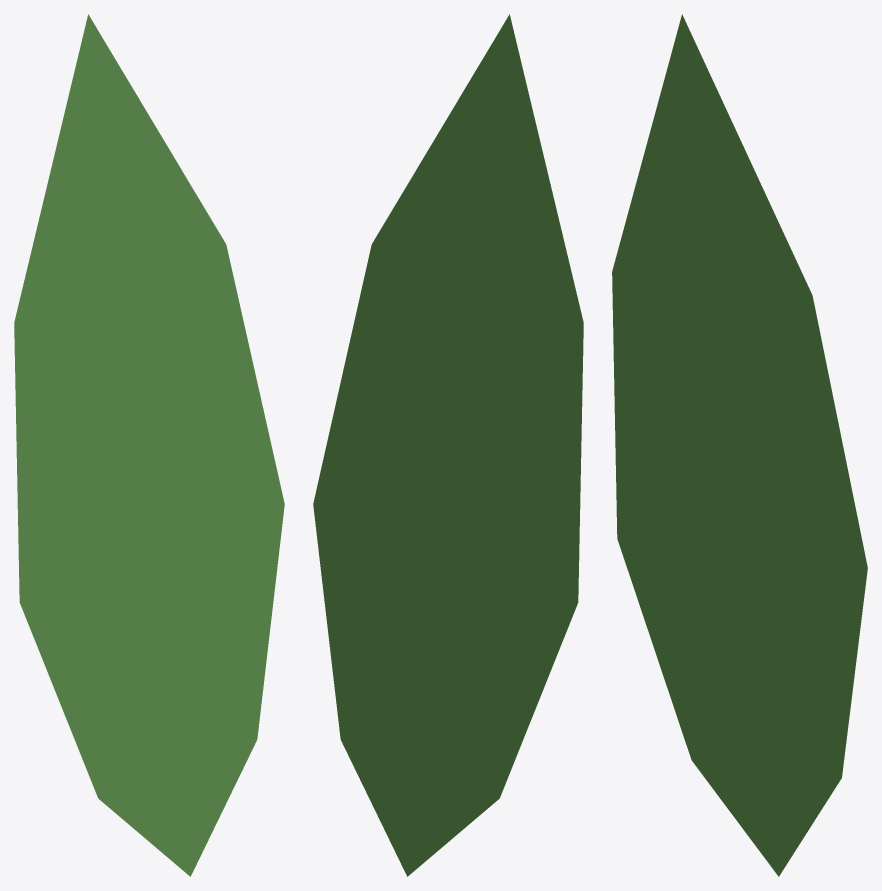
Rendered from LeafBigTree5.glb.
3 views of the same model, side by side, from view 1: azimuth 30°, elevation 25°; view 2: azimuth 150°, elevation 25°; view 3: azimuth 330°, elevation 25° (orthographic). The views are drawn at different scales.
Visible parts, largest first — view 1: Leaf_DarkGreen_Long.090; view 2: Leaf_DarkGreen_Long.090; view 3: Leaf_DarkGreen_Long.090.
Boxes of the visible parts, x1=… form: Leaf_DarkGreen_Long.090: x1=14, y1=14, x2=284, y2=876; Leaf_DarkGreen_Long.090: x1=313, y1=14, x2=583, y2=876; Leaf_DarkGreen_Long.090: x1=612, y1=14, x2=867, y2=876.
Size of the model in its own units: 0.162 by 0.5079 by 0.
